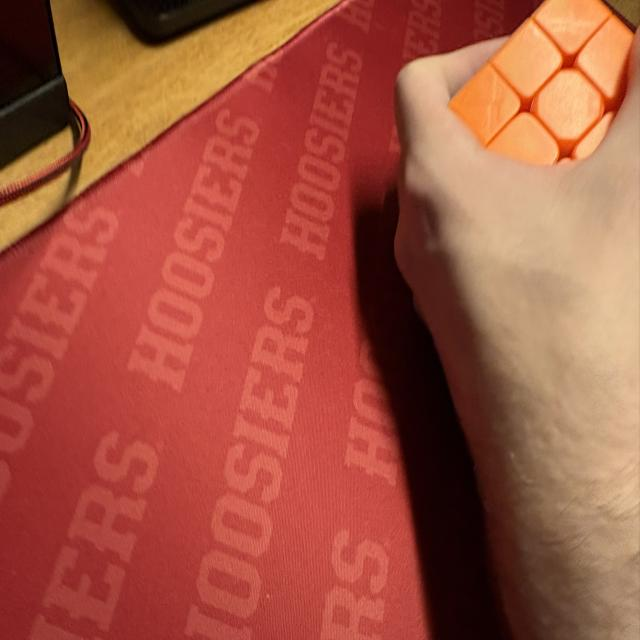Rubiks Cube: (447, 0, 636, 164)
